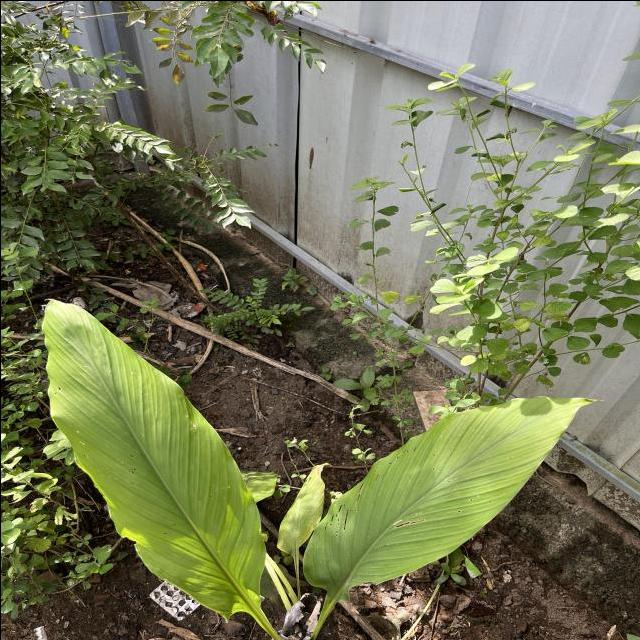Curcuma longa: (40, 296, 270, 623), (299, 392, 606, 608)
